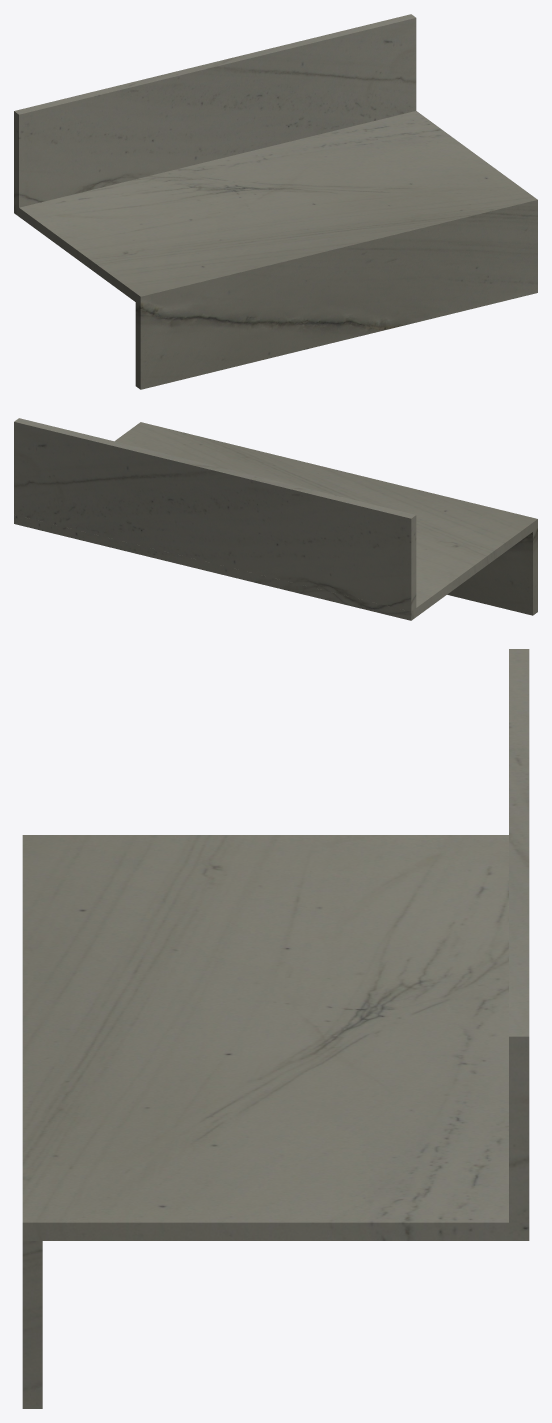
The model's file is Layout 5.glb.
The picture shows the model from 3 angles, top to bottom: view 1: azimuth 30°, elevation 25°; view 2: azimuth 150°, elevation 25°; view 3: azimuth 270°, elevation 25°; orthographic projection. The views are drawn at different scales.
Visible parts, largest first — view 1: texturedMesh (×11); view 2: texturedMesh (×23); view 3: texturedMesh (×20).
Boxes of the visible parts, x1=… form: texturedMesh (×11): x1=14, y1=14, x2=537, y2=389; texturedMesh (×23): x1=14, y1=418, x2=537, y2=620; texturedMesh (×20): x1=22, y1=649, x2=529, y2=1408.
Size of the model in its own units: 0.908 by 0.4064 by 0.5018.
Materials: 4 (4 with a texture image).
